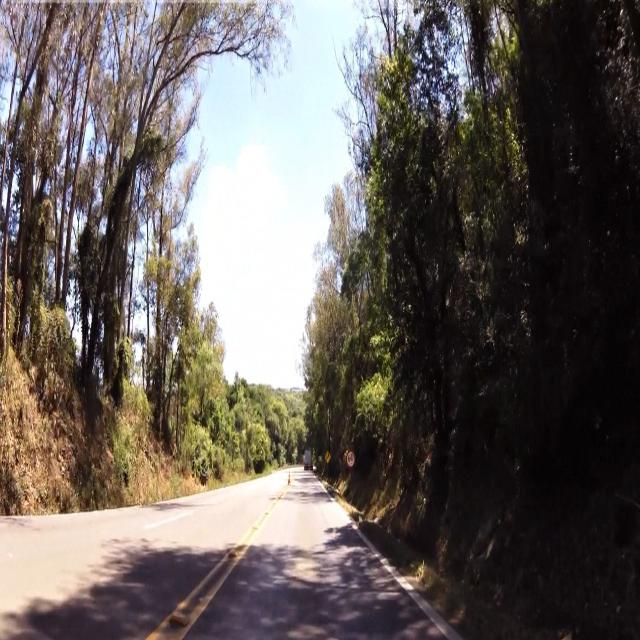R-19: (346, 449, 355, 469)
